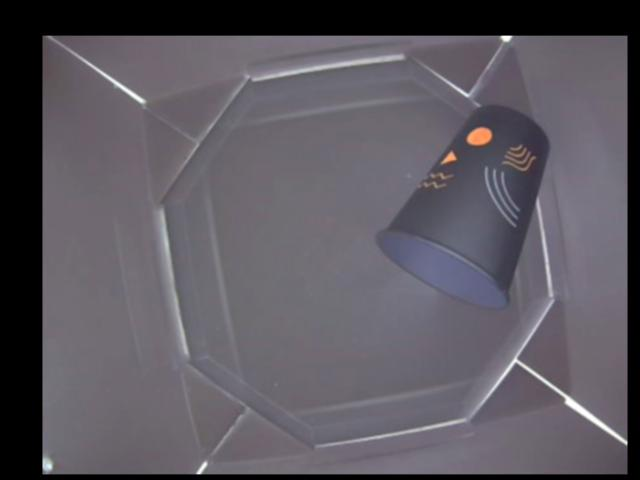Cup: (378, 102, 554, 304)
